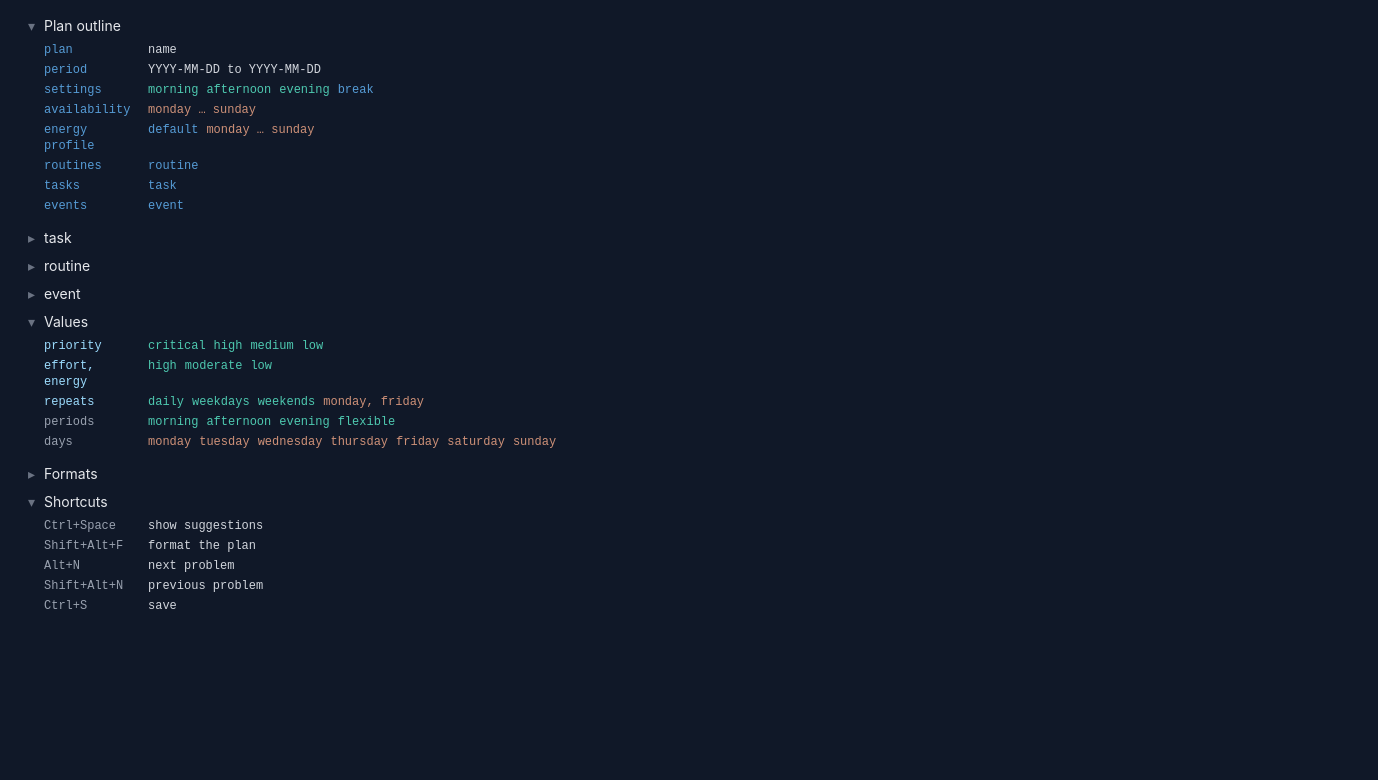
Scenario: CheatSheetPanel › opens and closes a group
What coordinates should you click on to do the following:
click the button "▸ task"
I would click on:
 (32, 238)
Its box is [12,224,1366,252].
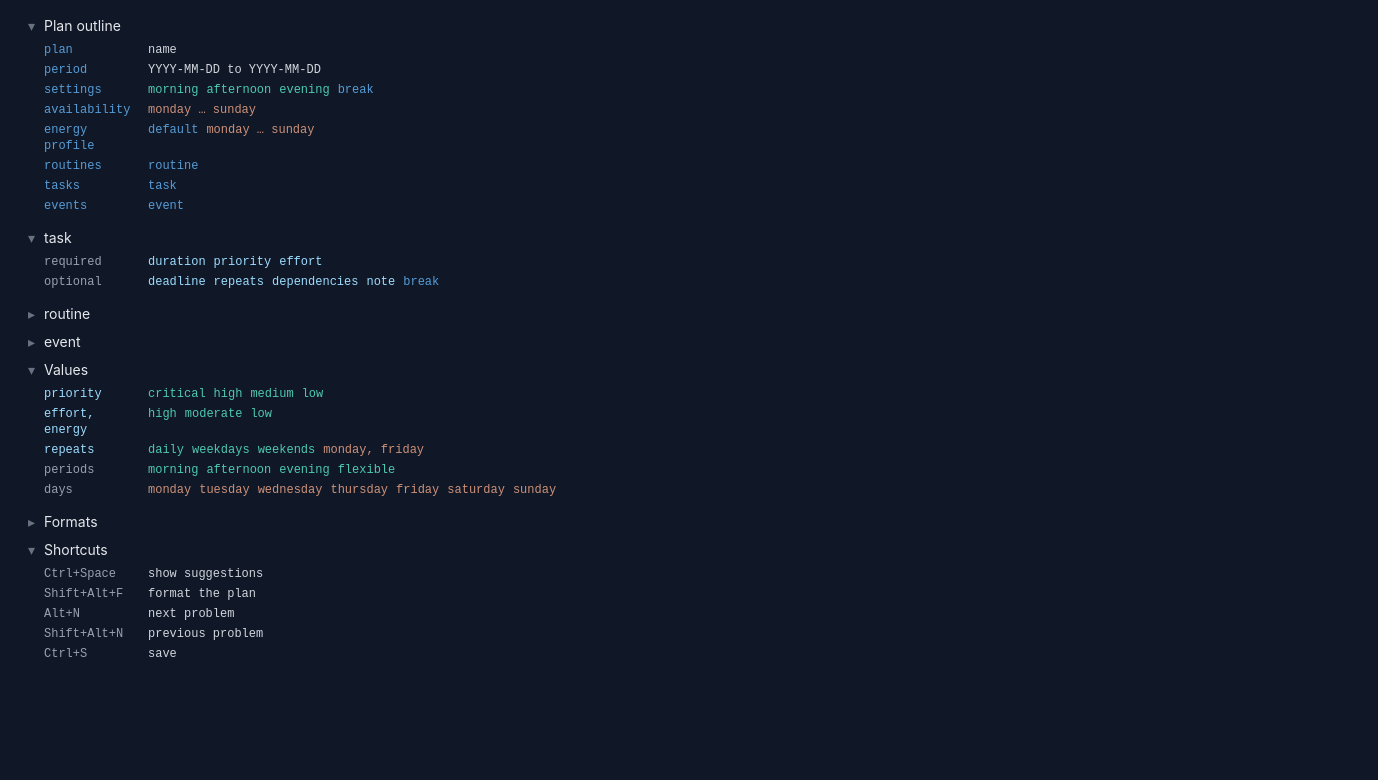
Now the text "dependencies" is shown, box [272,274,358,290]
What coordinates should you click on to do the following:
click the button "▾ task"
I would click on:
 (32, 238)
Its box is [12,224,1366,252].
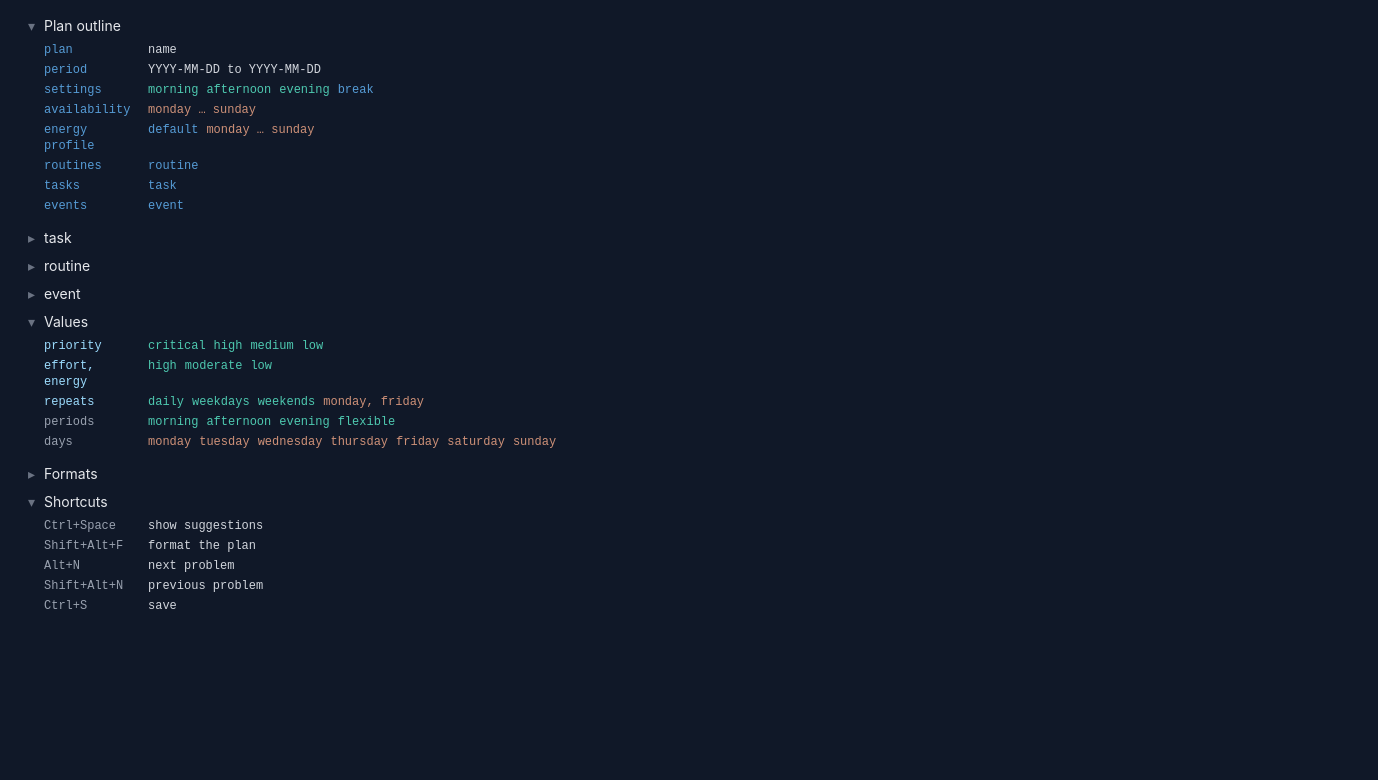
Now the text "dependencies" is gone
